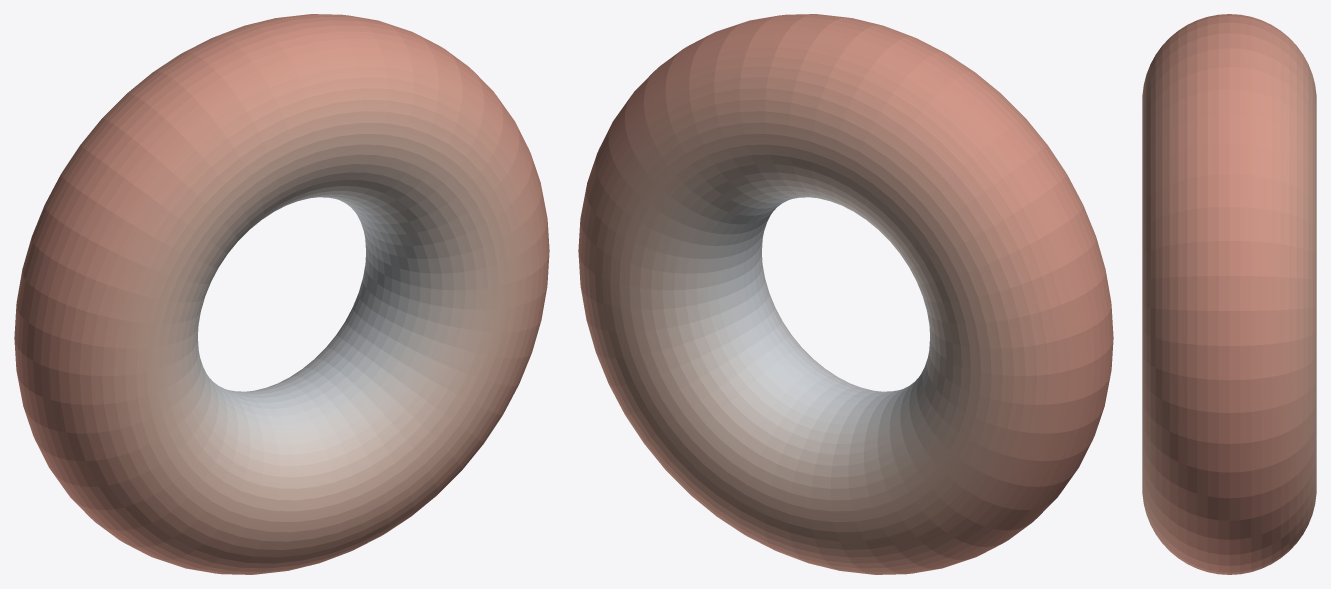
The picture shows the model from 3 angles, left to right: view 1: azimuth 30°, elevation 25°; view 2: azimuth 150°, elevation 25°; view 3: azimuth 270°, elevation 25°; orthographic projection. The views are drawn at different scales.
Parts seen in each view (by area): view 1: world; view 2: world; view 3: world.
Boxes of the visible parts, x1,y1,x2,y2 form: world: (14, 14, 549, 574); world: (578, 14, 1113, 574); world: (1142, 14, 1316, 574).
Size of the model in its own units: 26.13 by 26.08 by 8.12.
